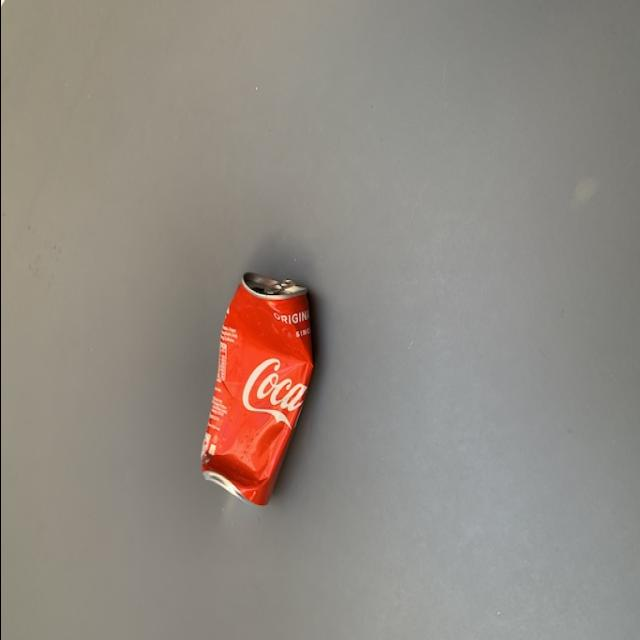litter: (186, 260, 324, 516)
